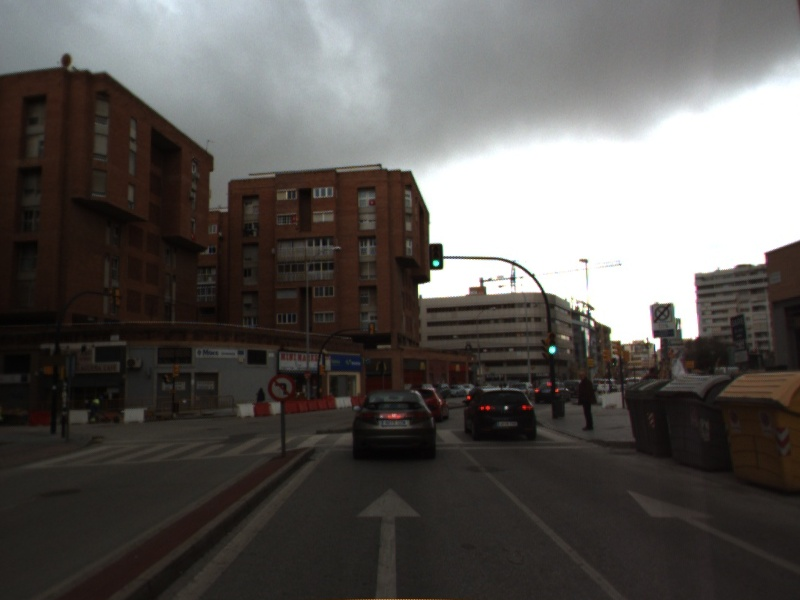STRAIGHT: (621, 486, 800, 574), (353, 484, 425, 600)
